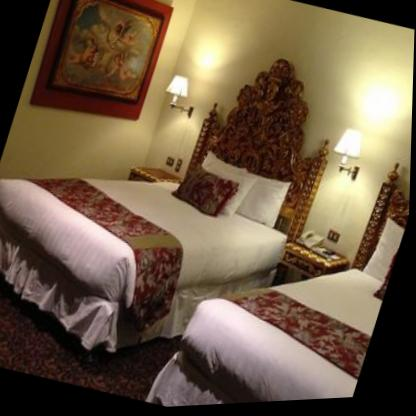Bed: (0, 0, 359, 416), (159, 119, 413, 409)
